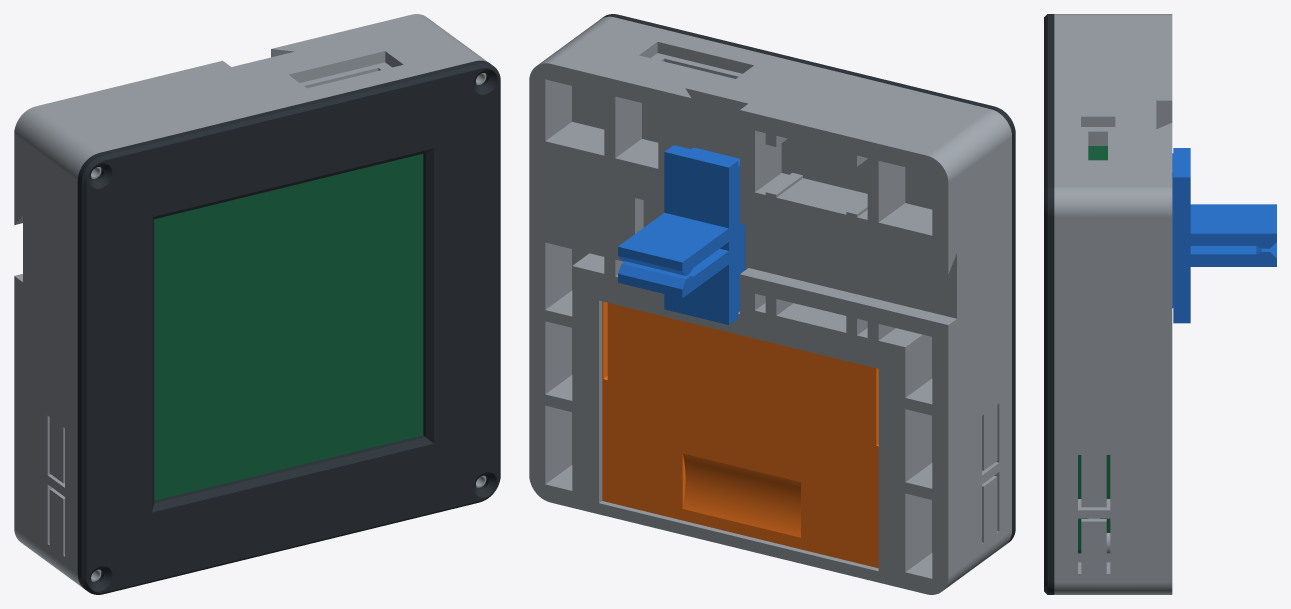
File: assembly.glb
The picture shows the model from 3 angles, left to right: view 1: azimuth 30°, elevation 25°; view 2: azimuth 150°, elevation 25°; view 3: azimuth 270°, elevation 25°; orthographic projection. The views are drawn at different scales.
Parts seen in each view (by area): view 1: front_bezel, board_dummy, body; view 2: body, battery_door, vent_clip, front_bezel; view 3: body, vent_clip, front_bezel, board_dummy.
Part boxes in pixels (<box>): front_bezel: <box>77,60,500,594</box>; board_dummy: <box>154,154,423,500</box>; body: <box>14,14,488,587</box>; body: <box>529,16,1011,594</box>; battery_door: <box>602,301,878,568</box>; vent_clip: <box>618,145,745,324</box>; front_bezel: <box>601,14,1015,543</box>; body: <box>1054,14,1172,594</box>; vent_clip: <box>1172,148,1276,323</box>; front_bezel: <box>1044,14,1054,594</box>; board_dummy: <box>1078,146,1110,553</box>.
Size of the model in its own units: 0.078 by 0.078 by 0.0405.
